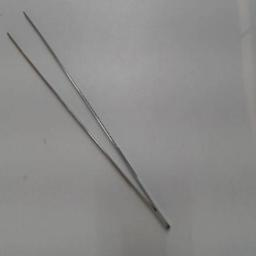DeBakey Dissector: (4, 3, 176, 235)
